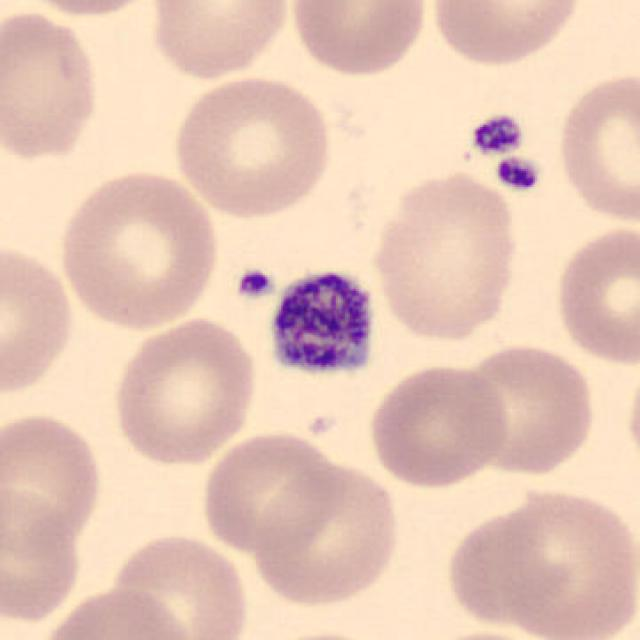Platelets: (265, 264, 380, 382), (466, 111, 528, 159), (494, 153, 544, 194), (231, 264, 277, 304)
RBC: (53, 166, 224, 333), (368, 166, 523, 346), (469, 483, 636, 640), (169, 71, 336, 222), (247, 457, 404, 610), (108, 312, 260, 469), (453, 338, 599, 479), (364, 360, 512, 490), (197, 428, 345, 556), (441, 499, 569, 629), (0, 7, 103, 166), (105, 529, 252, 640), (0, 407, 105, 557), (551, 67, 640, 227), (550, 220, 638, 368), (0, 236, 78, 402), (144, 0, 293, 83), (0, 483, 85, 626), (286, 0, 432, 79), (426, 0, 586, 69), (35, 583, 193, 640), (9, 0, 167, 19), (622, 351, 640, 483), (247, 627, 394, 640), (412, 627, 552, 640)
